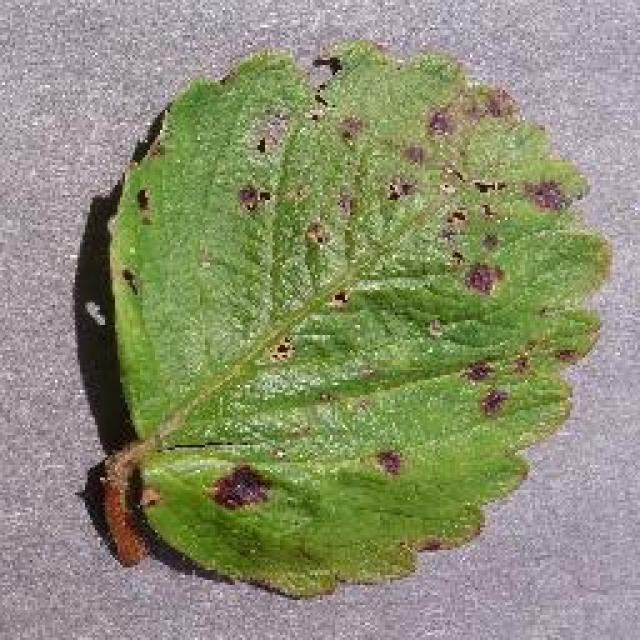Strawberry leaf scorch: (192, 83, 503, 522)
